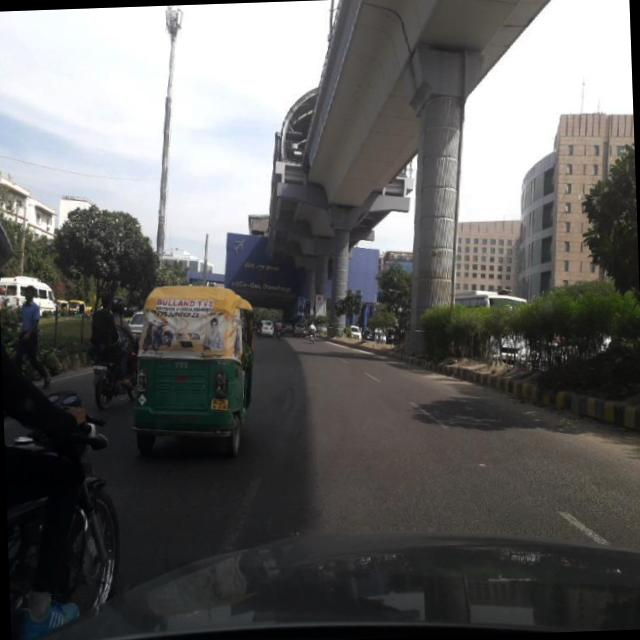crack: (370, 421, 634, 552)
